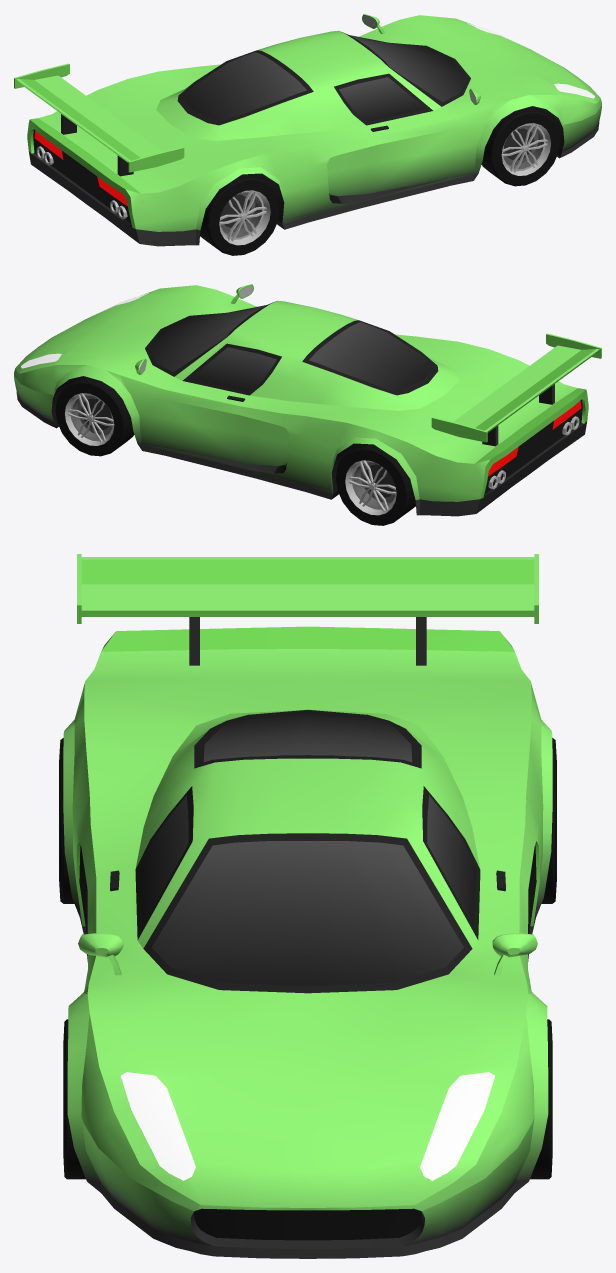
File: RaceCar_055.glb
3 renders of one model, top to bottom at view 1: azimuth 30°, elevation 25°; view 2: azimuth 150°, elevation 25°; view 3: azimuth 270°, elevation 25°, orthographic. The views are drawn at different scales.
Visible parts, largest first — view 1: RaceCar_055, wheel_3_RaceCar_055_Wheel_2R, wheel_1_RaceCar_055_Wheel_1R; view 2: RaceCar_055, wheel_2_RaceCar_055_Wheel_2L, wheel_0_RaceCar_055_Wheel_1L; view 3: RaceCar_055, wheel_0_RaceCar_055_Wheel_1L, wheel_1_RaceCar_055_Wheel_1R, wheel_2_RaceCar_055_Wheel_2L, wheel_3_RaceCar_055_Wheel_2R.
Part boxes in pixels (x1,y1,x2,y2): RaceCar_055: [14, 14, 601, 246]; wheel_3_RaceCar_055_Wheel_2R: [200, 174, 279, 255]; wheel_1_RaceCar_055_Wheel_1R: [481, 106, 560, 186]; RaceCar_055: [14, 284, 601, 516]; wheel_2_RaceCar_055_Wheel_2L: [336, 444, 415, 525]; wheel_0_RaceCar_055_Wheel_1L: [55, 376, 134, 456]; RaceCar_055: [63, 554, 552, 1258]; wheel_0_RaceCar_055_Wheel_1L: [530, 1019, 552, 1179]; wheel_1_RaceCar_055_Wheel_1R: [63, 1019, 85, 1179]; wheel_2_RaceCar_055_Wheel_2L: [541, 738, 556, 903]; wheel_3_RaceCar_055_Wheel_2R: [59, 738, 74, 903].
Size of the model in its own units: 4.88 by 1.12 by 2.08.
3 materials, 3 textured.
